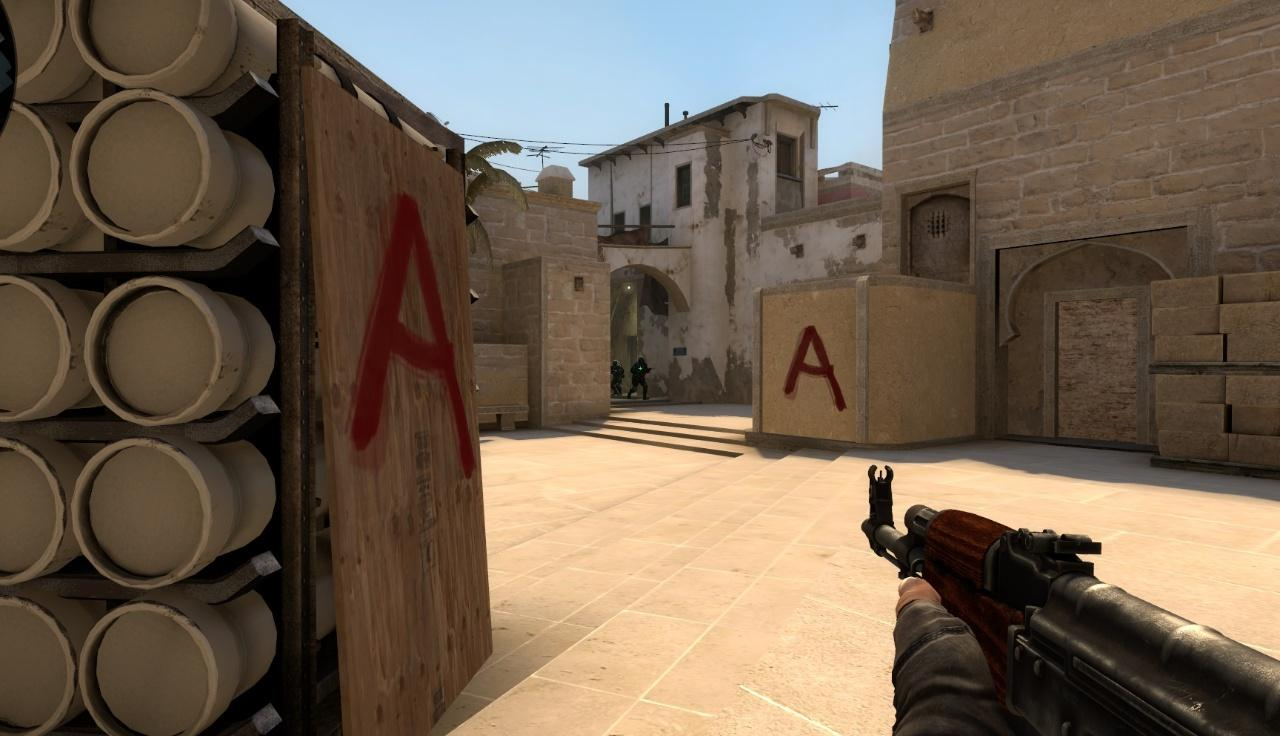ct: (627, 357, 651, 400), (611, 360, 625, 396)
cthead: (638, 357, 645, 364), (612, 361, 619, 367)
rifle: (862, 464, 1280, 736)
